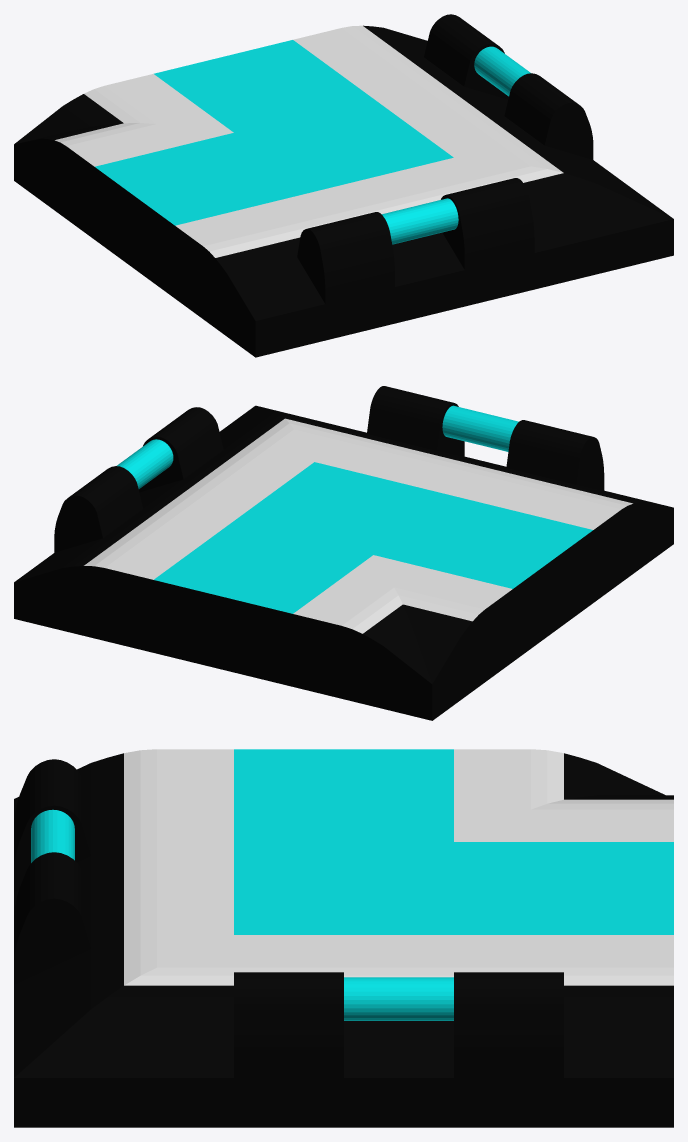
The model's file is pathBendCurved.fbx.
3 renders of one model, top to bottom at view 1: azimuth 30°, elevation 25°; view 2: azimuth 150°, elevation 25°; view 3: azimuth 270°, elevation 25°, orthographic. The views are drawn at different scales.
Visible parts, largest first — view 1: Plane, Cylinder; view 2: Plane, Cylinder; view 3: Plane, Cylinder.
Part boxes in pixels (x1=…): Plane: x1=14, y1=14, x2=673, y2=357; Cylinder: x1=382, y1=46, x2=530, y2=244; Plane: x1=14, y1=386, x2=673, y2=720; Cylinder: x1=117, y1=405, x2=518, y2=488; Plane: x1=14, y1=749, x2=673, y2=1127; Cylinder: x1=31, y1=809, x2=453, y2=1020.
Size of the model in its own units: 600 by 137 by 600.
